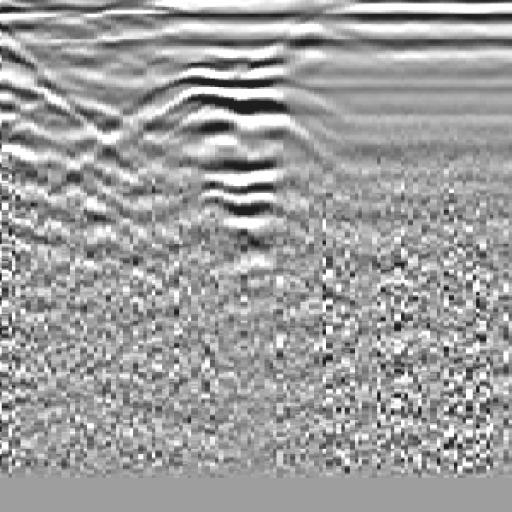metalic: (131, 39, 351, 281)
